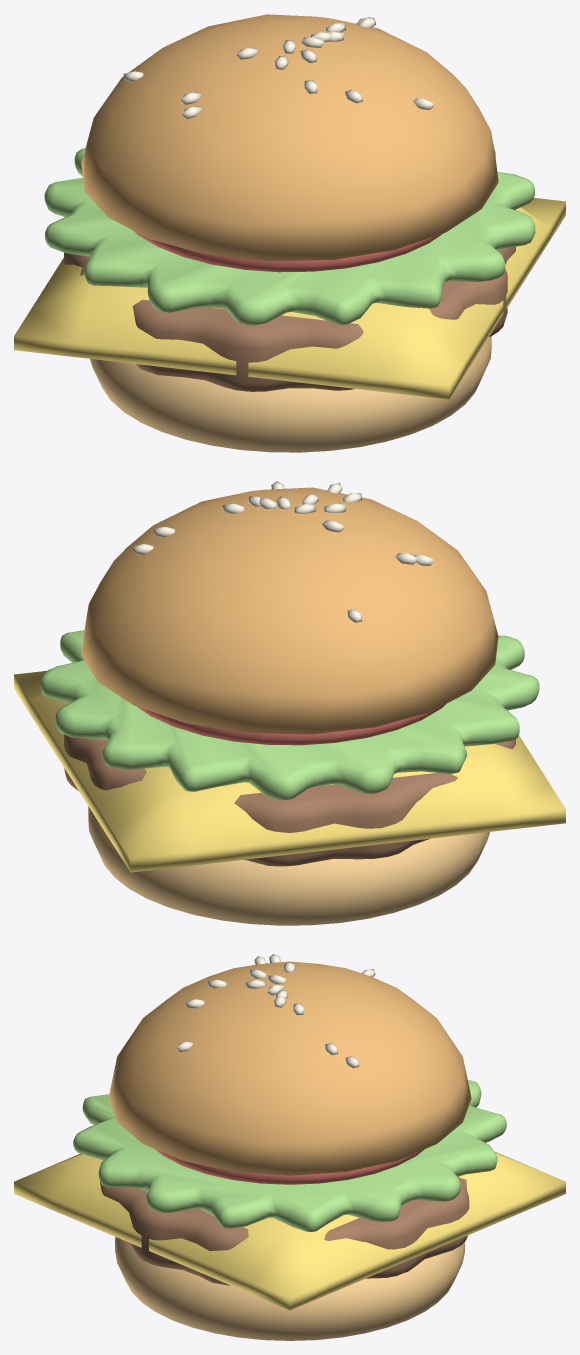
Rendered from sk_food_burger.fbx.
3 views of the same model, one above another, from view 1: azimuth 30°, elevation 25°; view 2: azimuth 150°, elevation 25°; view 3: azimuth 270°, elevation 25° (orthographic). The views are drawn at different scales.
Parts seen in each view (by area): view 1: Bun_Top, Lettuce, Cheese_Slice, Bun_Bottom, Patty, Tomato; view 2: Bun_Top, Cheese_Slice, Lettuce, Bun_Bottom, Patty, Tomato; view 3: Bun_Top, Cheese_Slice, Lettuce, Bun_Bottom, Patty, Tomato.
Part boxes in pixels (bbox=[...]): Bun_Top: bbox=[81, 14, 498, 261]; Lettuce: bbox=[44, 148, 535, 325]; Cheese_Slice: bbox=[14, 198, 565, 399]; Bun_Bottom: bbox=[90, 336, 491, 452]; Patty: bbox=[64, 246, 515, 391]; Tomato: bbox=[134, 231, 443, 272]; Bun_Top: bbox=[81, 487, 498, 734]; Cheese_Slice: bbox=[14, 670, 565, 872]; Lettuce: bbox=[40, 630, 539, 800]; Bun_Bottom: bbox=[88, 806, 489, 925]; Patty: bbox=[64, 735, 515, 866]; Tomato: bbox=[136, 704, 445, 745]; Bun_Top: bbox=[108, 961, 471, 1175]; Cheese_Slice: bbox=[14, 1152, 565, 1310]; Lettuce: bbox=[73, 1080, 506, 1231]; Bun_Bottom: bbox=[115, 1237, 464, 1340]; Patty: bbox=[100, 1177, 469, 1285]; Tomato: bbox=[155, 1149, 424, 1184].
Size of the model in its own units: 0.164 by 0.0984 by 0.164.
